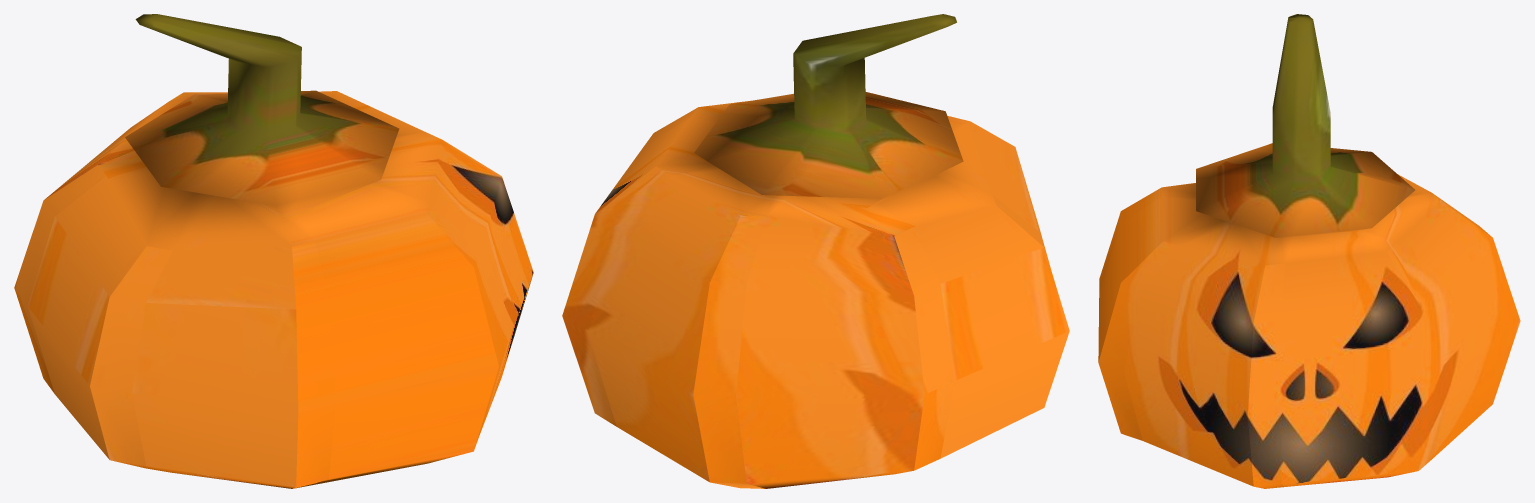
Rendered from Pumpkin.glb.
The picture shows the model from 3 angles, left to right: view 1: azimuth 30°, elevation 25°; view 2: azimuth 150°, elevation 25°; view 3: azimuth 270°, elevation 25°; orthographic projection. The views are drawn at different scales.
Parts seen in each view (by area): view 1: Pumpkin; view 2: Pumpkin; view 3: Pumpkin.
Boxes of the visible parts, x1,y1,x2,y2 form: Pumpkin: [14, 14, 533, 488]; Pumpkin: [562, 14, 1069, 488]; Pumpkin: [1098, 14, 1520, 488].
Size of the model in its own units: 0.2688 by 0.2681 by 0.2696.
1 material, 1 textured.
